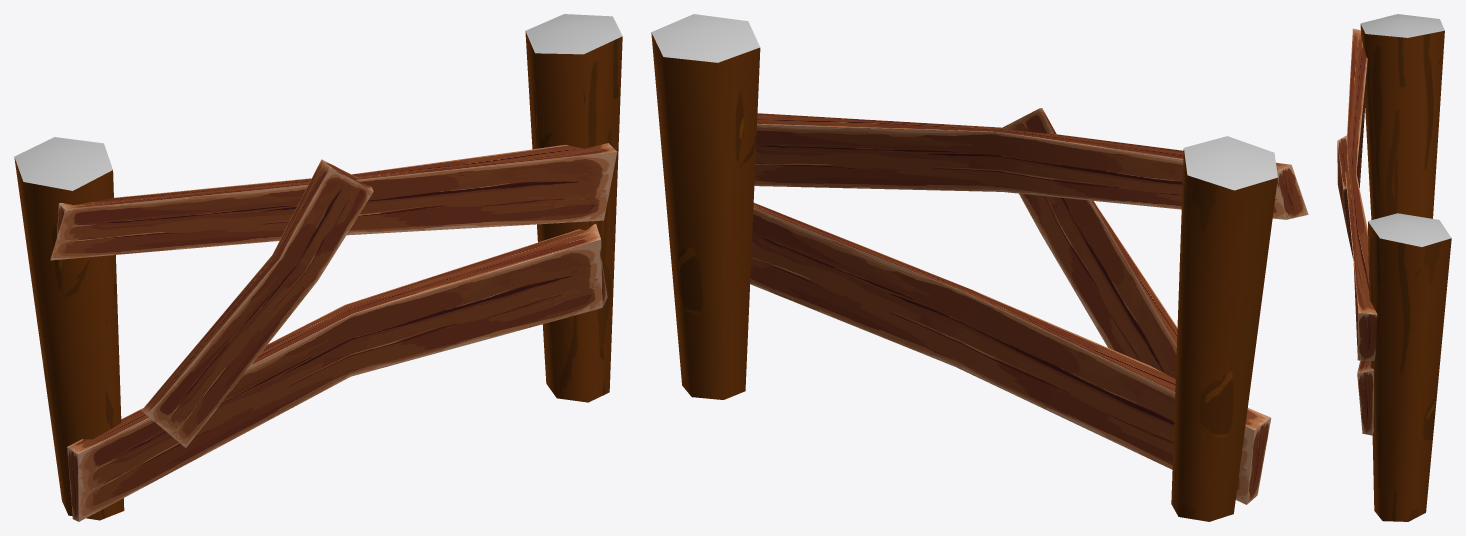
File: SM_PROP_fence_v03_04.fbx
3 views of the same model, side by side, from view 1: azimuth 30°, elevation 25°; view 2: azimuth 150°, elevation 25°; view 3: azimuth 270°, elevation 25° (orthographic). The views are drawn at different scales.
Visible parts, largest first — view 1: SM_PROP_fence_v03_04; view 2: SM_PROP_fence_v03_04; view 3: SM_PROP_fence_v03_04.
Part boxes in pixels (box(x1,y1,x2,y2)): SM_PROP_fence_v03_04: box(14, 14, 622, 521); SM_PROP_fence_v03_04: box(651, 14, 1308, 521); SM_PROP_fence_v03_04: box(1337, 14, 1451, 521).
Size of the model in its own units: 207 by 117 by 41.69.
